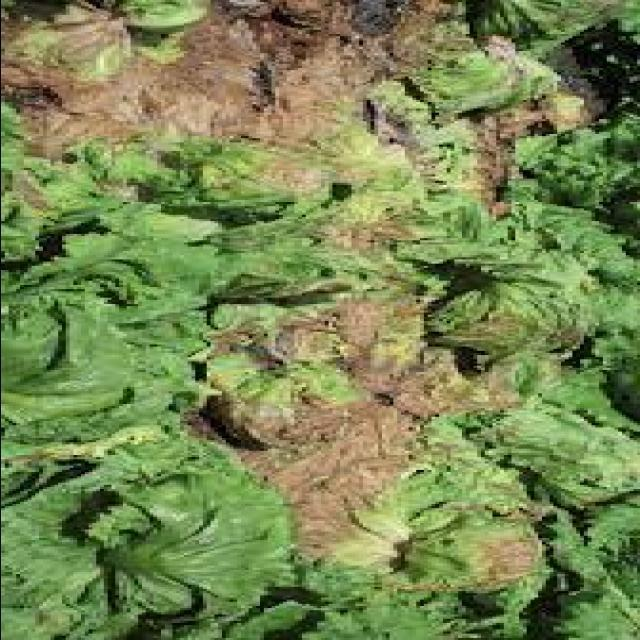Wilt_and_leaf_blight_on_lettuce: (8, 30, 294, 230), (277, 397, 497, 580)
